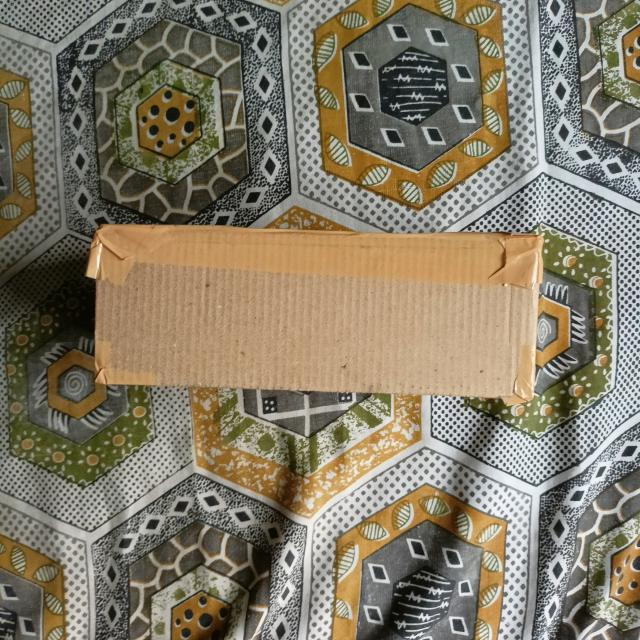box: (88, 226, 547, 407)
